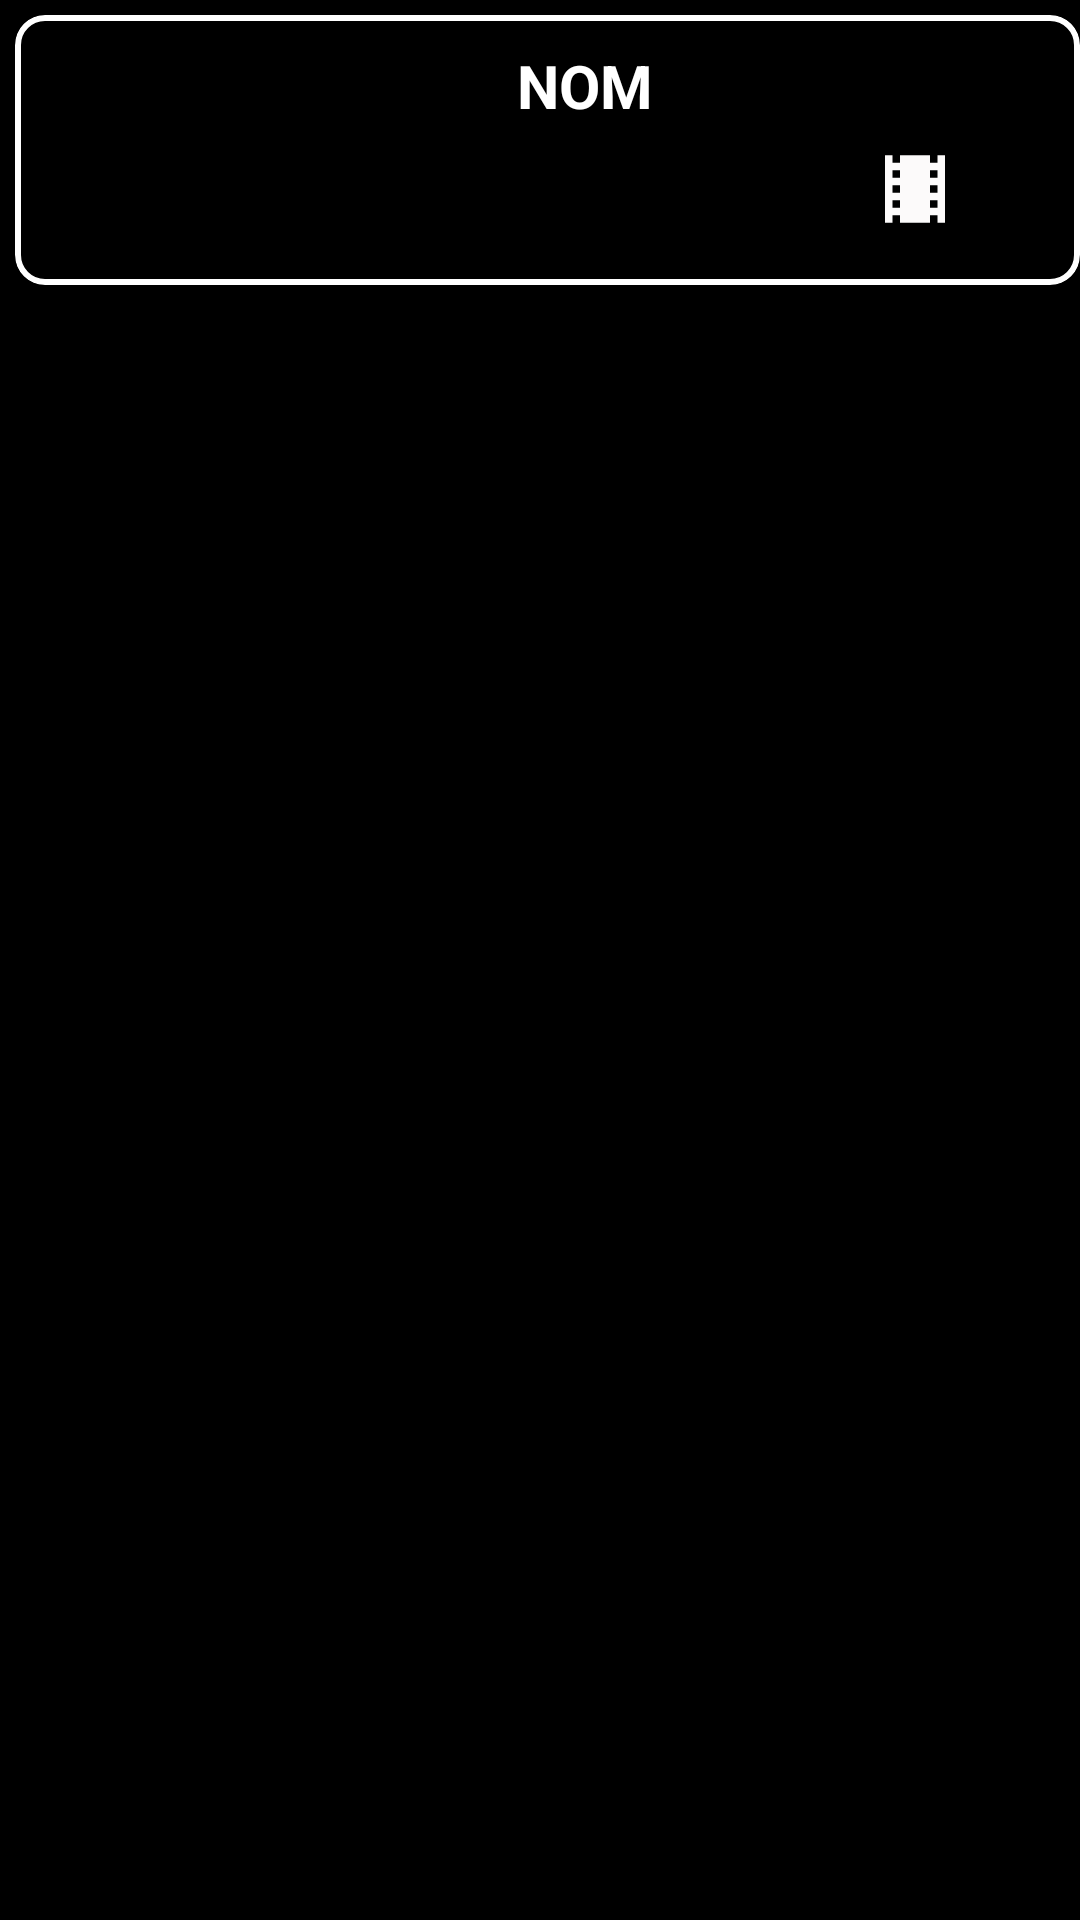

Screen size 1080x1920. Icon name, then its box in pixels as bbox(x1, y1, x2, y2):
detail movies: bbox(885, 155, 945, 223)
